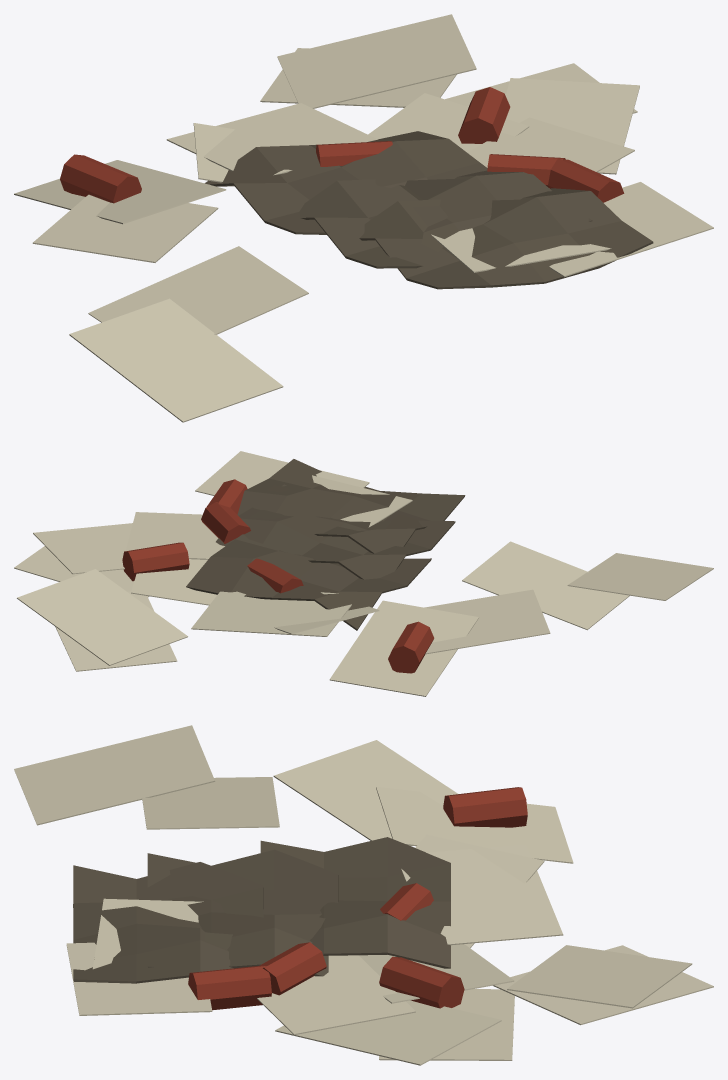
File: trash_pile.glb
The picture shows the model from 3 angles, top to bottom: view 1: azimuth 30°, elevation 25°; view 2: azimuth 150°, elevation 25°; view 3: azimuth 270°, elevation 25°; orthographic projection. The views are drawn at different scales.
Parts seen in each view (by area): view 1: trash_pile; view 2: trash_pile; view 3: trash_pile.
Part boxes in pixels (x1=…): trash_pile: x1=14, y1=14, x2=713, y2=422; trash_pile: x1=14, y1=451, x2=713, y2=696; trash_pile: x1=14, y1=725, x2=713, y2=1065.
Size of the model in its own units: 1.27 by 0.0912 by 1.1.
